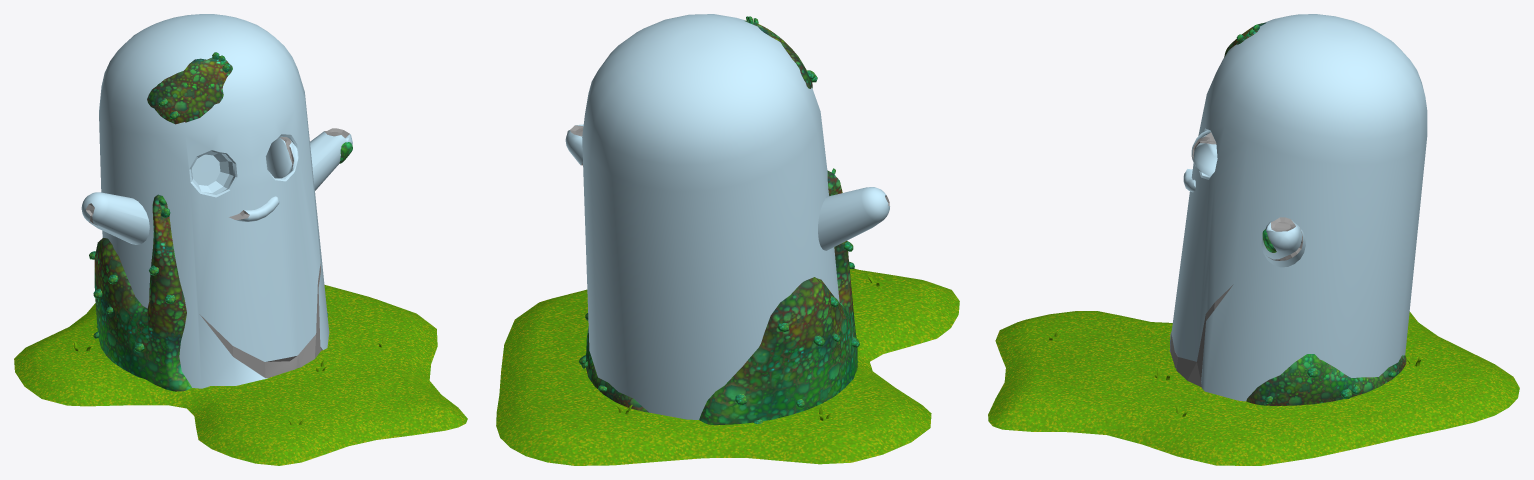
Rendered from OldStatue2.fbx.
3 renders of one model, left to right at view 1: azimuth 30°, elevation 25°; view 2: azimuth 150°, elevation 25°; view 3: azimuth 270°, elevation 25°, orthographic. The views are drawn at different scales.
Parts seen in each view (by area): view 1: OldGotchi2_LOD0; view 2: OldGotchi2_LOD0; view 3: OldGotchi2_LOD0.
Boxes of the visible parts, bbox=[...] form: OldGotchi2_LOD0: bbox=[14, 14, 467, 465]; OldGotchi2_LOD0: bbox=[496, 14, 959, 465]; OldGotchi2_LOD0: bbox=[988, 14, 1519, 465].
Size of what is drawn, in the model's own units: 3876 by 3198 by 4508.
